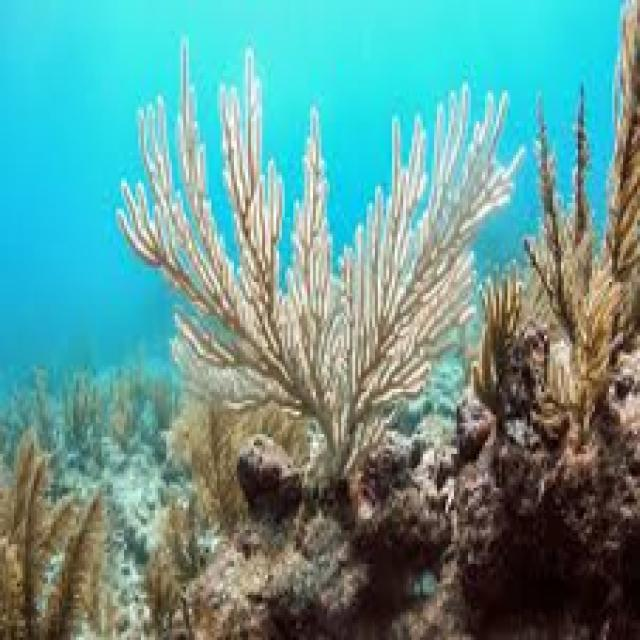Bleached: (122, 43, 337, 458), (308, 86, 523, 477), (531, 38, 640, 576), (1, 449, 125, 640)
